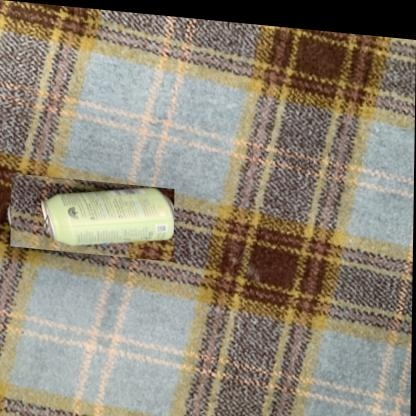trash: (42, 188, 173, 245)
